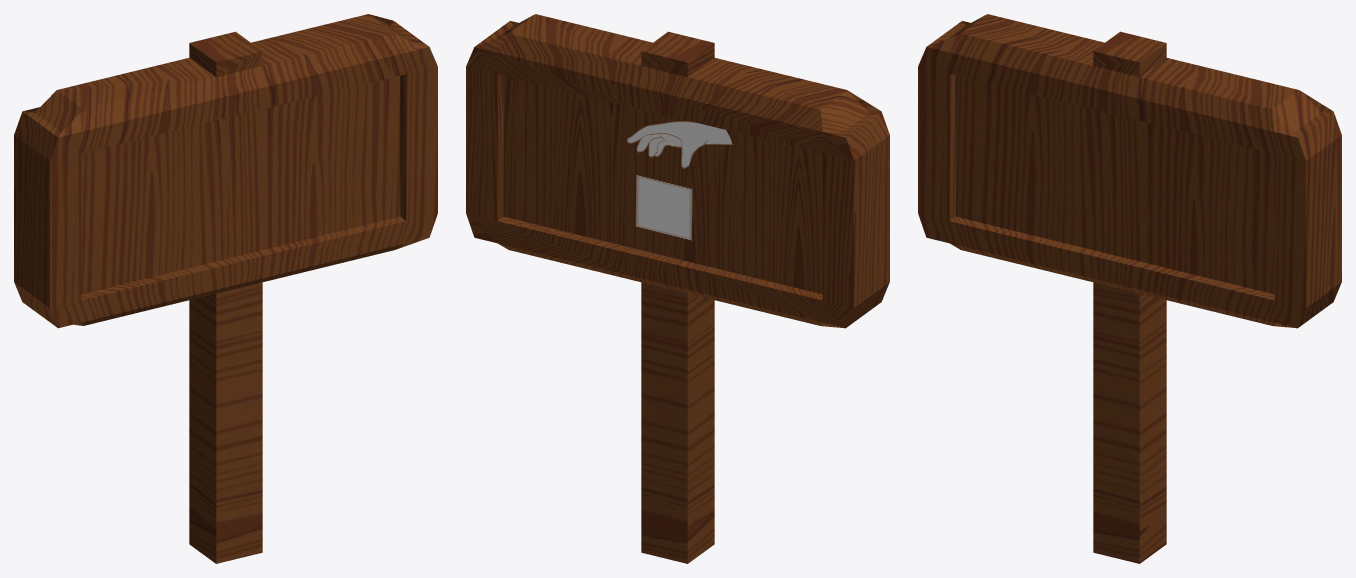
Rendered from SignRampGrap.fbx.
3 renders of one model, left to right at view 1: azimuth 30°, elevation 25°; view 2: azimuth 150°, elevation 25°; view 3: azimuth 330°, elevation 25°, orthographic.
Visible parts, largest first — view 1: Sign; view 2: Sign; view 3: Sign.
Boxes of the visible parts, <box> form: Sign: <box>14,14,437,563</box>; Sign: <box>466,14,889,563</box>; Sign: <box>918,14,1341,563</box>.
Bounding box in the file's own units: 335 × 414 × 53.52.
Materials: 1 (1 with a texture image).
